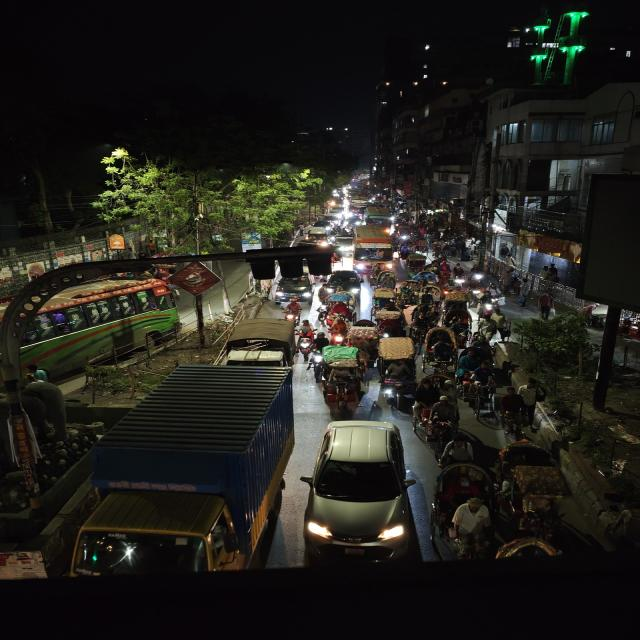bus: (0, 258, 181, 385), (355, 226, 396, 269)
car: (306, 417, 420, 563), (270, 281, 318, 306), (322, 268, 365, 290)
motorcycle: (409, 392, 462, 444), (478, 289, 500, 317), (450, 262, 468, 288)
pedestrian: (491, 386, 528, 436), (470, 363, 493, 392), (534, 290, 556, 320), (495, 314, 513, 342)
rickshaw: (498, 439, 570, 526), (437, 460, 492, 561), (314, 344, 368, 404), (376, 335, 416, 405), (411, 304, 442, 342), (370, 286, 402, 322), (371, 272, 399, 311), (442, 307, 474, 340), (346, 317, 380, 348), (427, 340, 457, 372), (402, 254, 428, 276)
truck: (80, 366, 296, 572), (218, 314, 297, 371)
